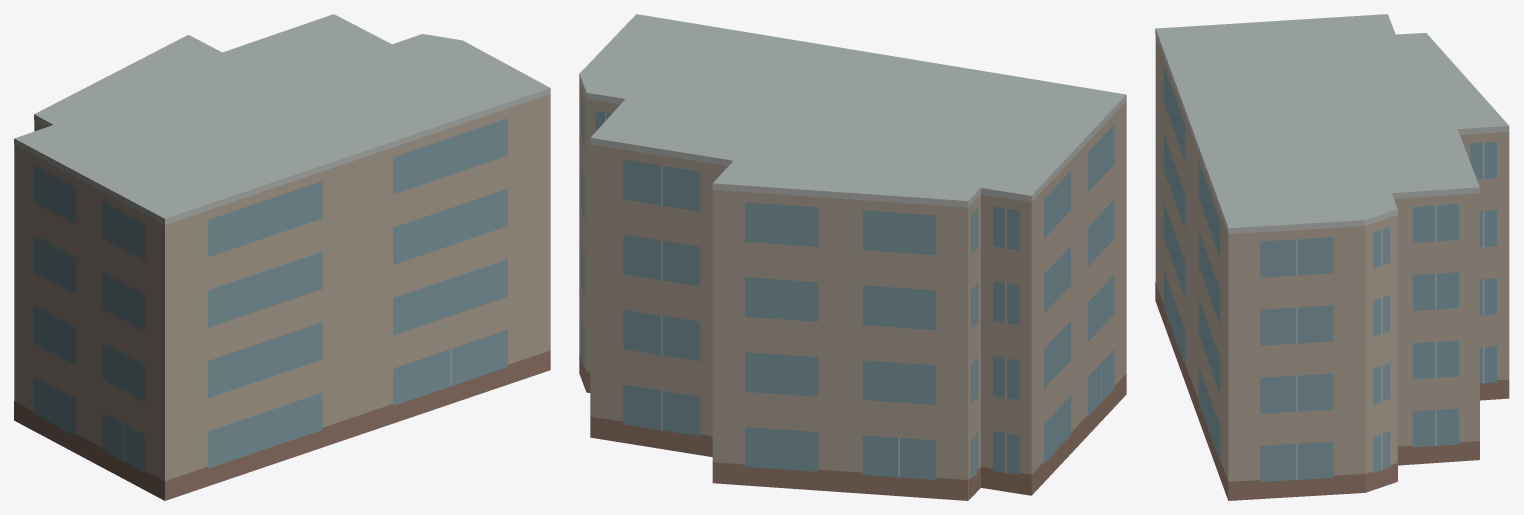
The model's file is survey-upis-32627472.glb.
3 renders of one model, left to right at view 1: azimuth 30°, elevation 25°; view 2: azimuth 150°, elevation 25°; view 3: azimuth 270°, elevation 25°, orthographic. The views are drawn at different scales.
Parts seen in each view (by area): view 1: survey-upis-32627472.tmp; view 2: survey-upis-32627472.tmp; view 3: survey-upis-32627472.tmp.
Boxes of the visible parts, <box> form: survey-upis-32627472.tmp: <box>14,14,550,500</box>; survey-upis-32627472.tmp: <box>579,14,1126,500</box>; survey-upis-32627472.tmp: <box>1155,14,1509,500</box>.
Bounding box in the file's own units: 19.05 × 11.3 × 13.3.
